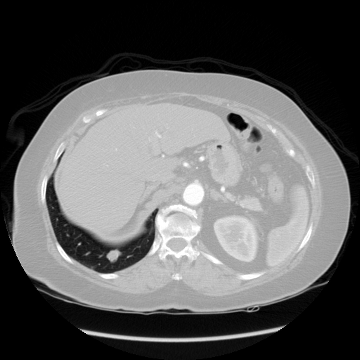nodule: (106, 248, 120, 262)
